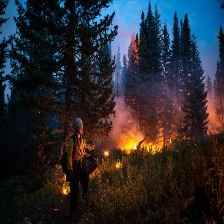fire: (99, 133, 168, 159), (129, 34, 143, 63), (61, 175, 73, 197), (110, 157, 123, 169)
smoke: (111, 85, 222, 135)
